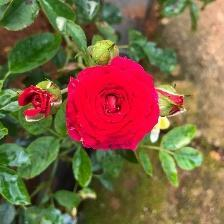rose: (64, 54, 162, 155)
